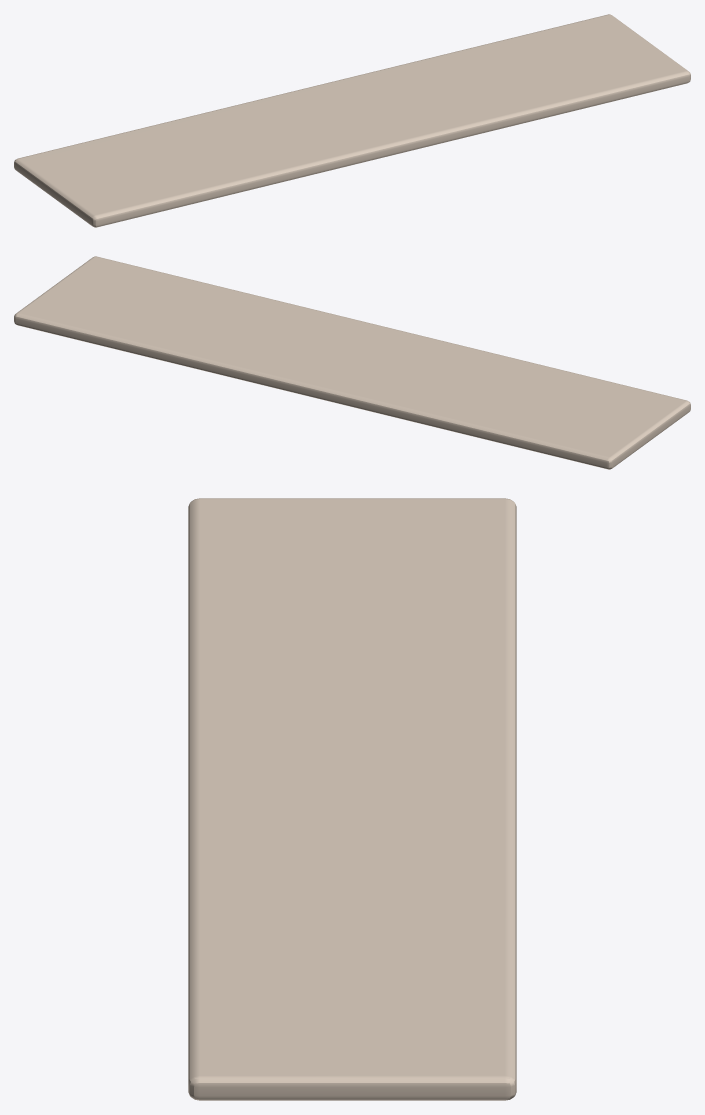
Rendered from board upper part.fbx.
3 views of the same model, one above another, from view 1: azimuth 30°, elevation 25°; view 2: azimuth 150°, elevation 25°; view 3: azimuth 270°, elevation 25° (orthographic). The views are drawn at different scales.
Parts seen in each view (by area): view 1: pCube3; view 2: pCube3; view 3: pCube3.
Boxes of the visible parts, bbox=[...] form: pCube3: bbox=[14, 14, 690, 227]; pCube3: bbox=[14, 256, 690, 469]; pCube3: bbox=[188, 498, 516, 1100].
Bounding box in the file's own units: 22.77 × 0.4361 × 5.41.
